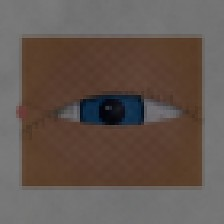pterygium_lesion: (21, 87, 82, 137)
